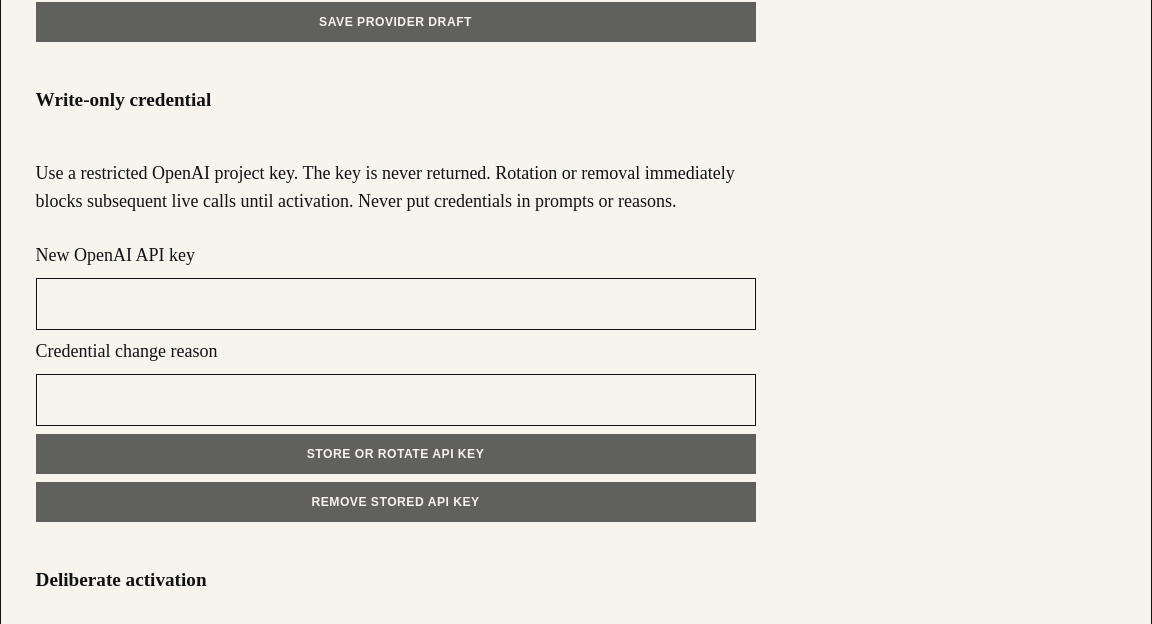
AI configuration workspace › clears write-only key inputs on submission and reports missing master keys without pretending to activate
The width and height of the screenshot is (1152, 624).
(page scrolled)
In the password field labelled "New OpenAI API key": (396, 304) [36,278,756,330], type "sk-test-only-not-an-external-credential"
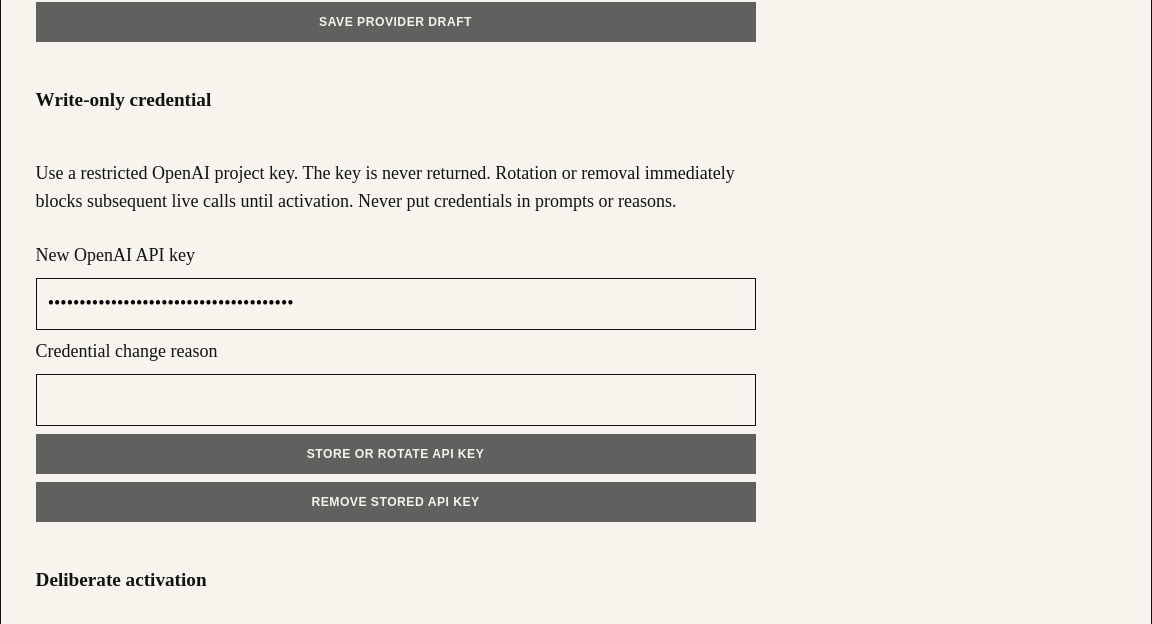
In the field labelled "Credential change reason": (396, 400) [36,374,756,426], type "Rotate project key"
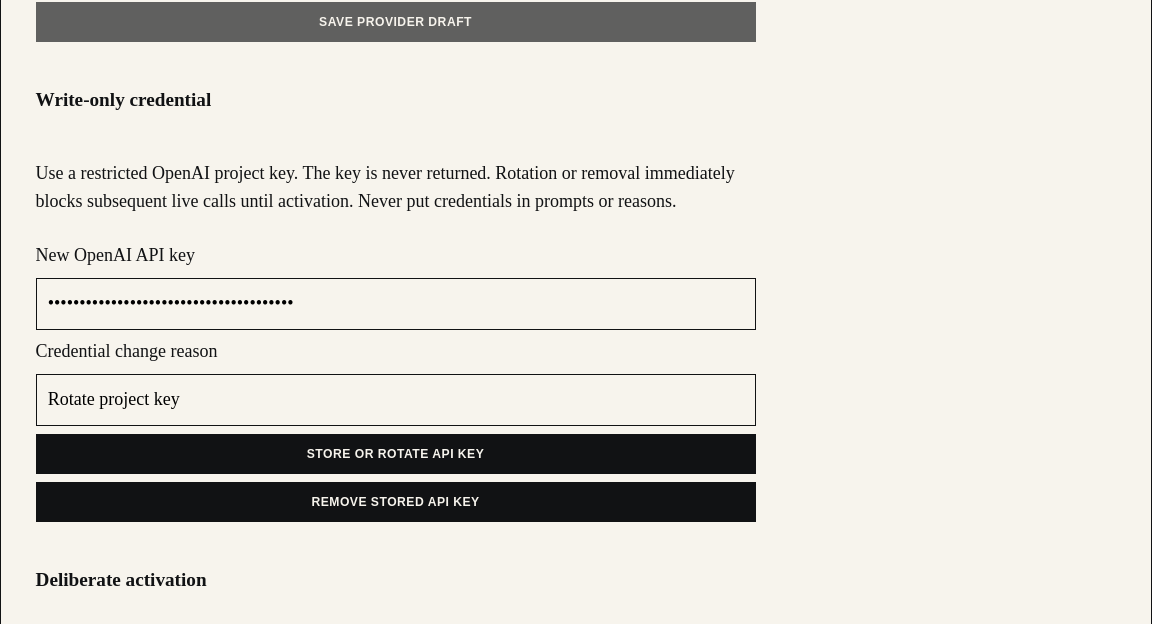
Click the button "Store or rotate API key": (396, 454) [36,434,756,474]
(page scrolled)
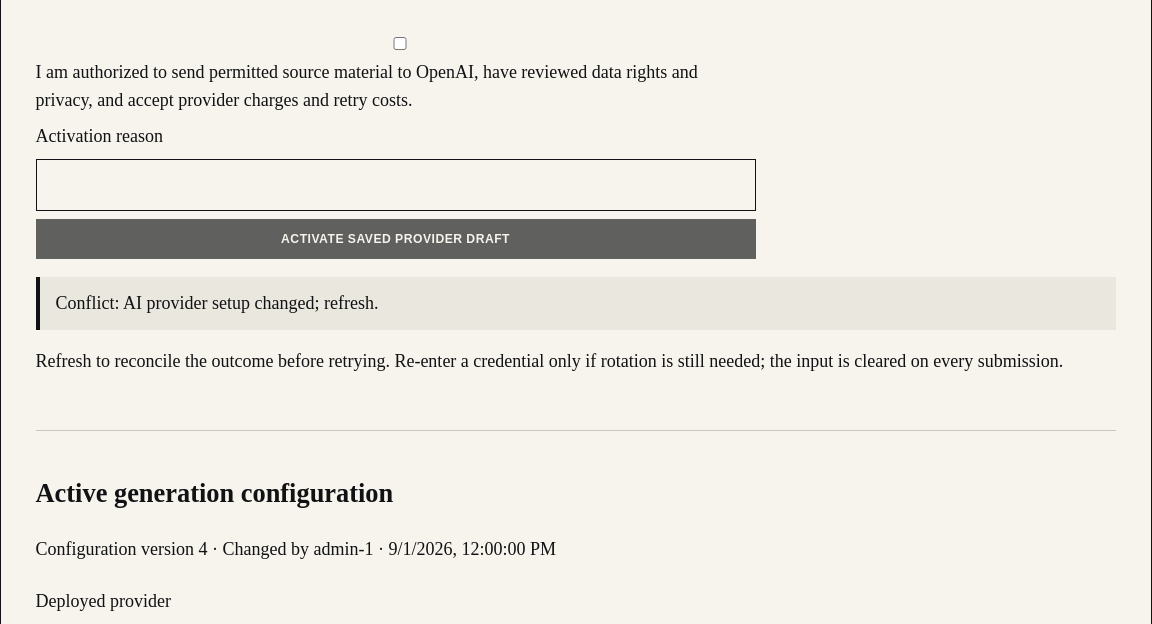
Expected: the message shows "refresh", [56,293,378,313]
